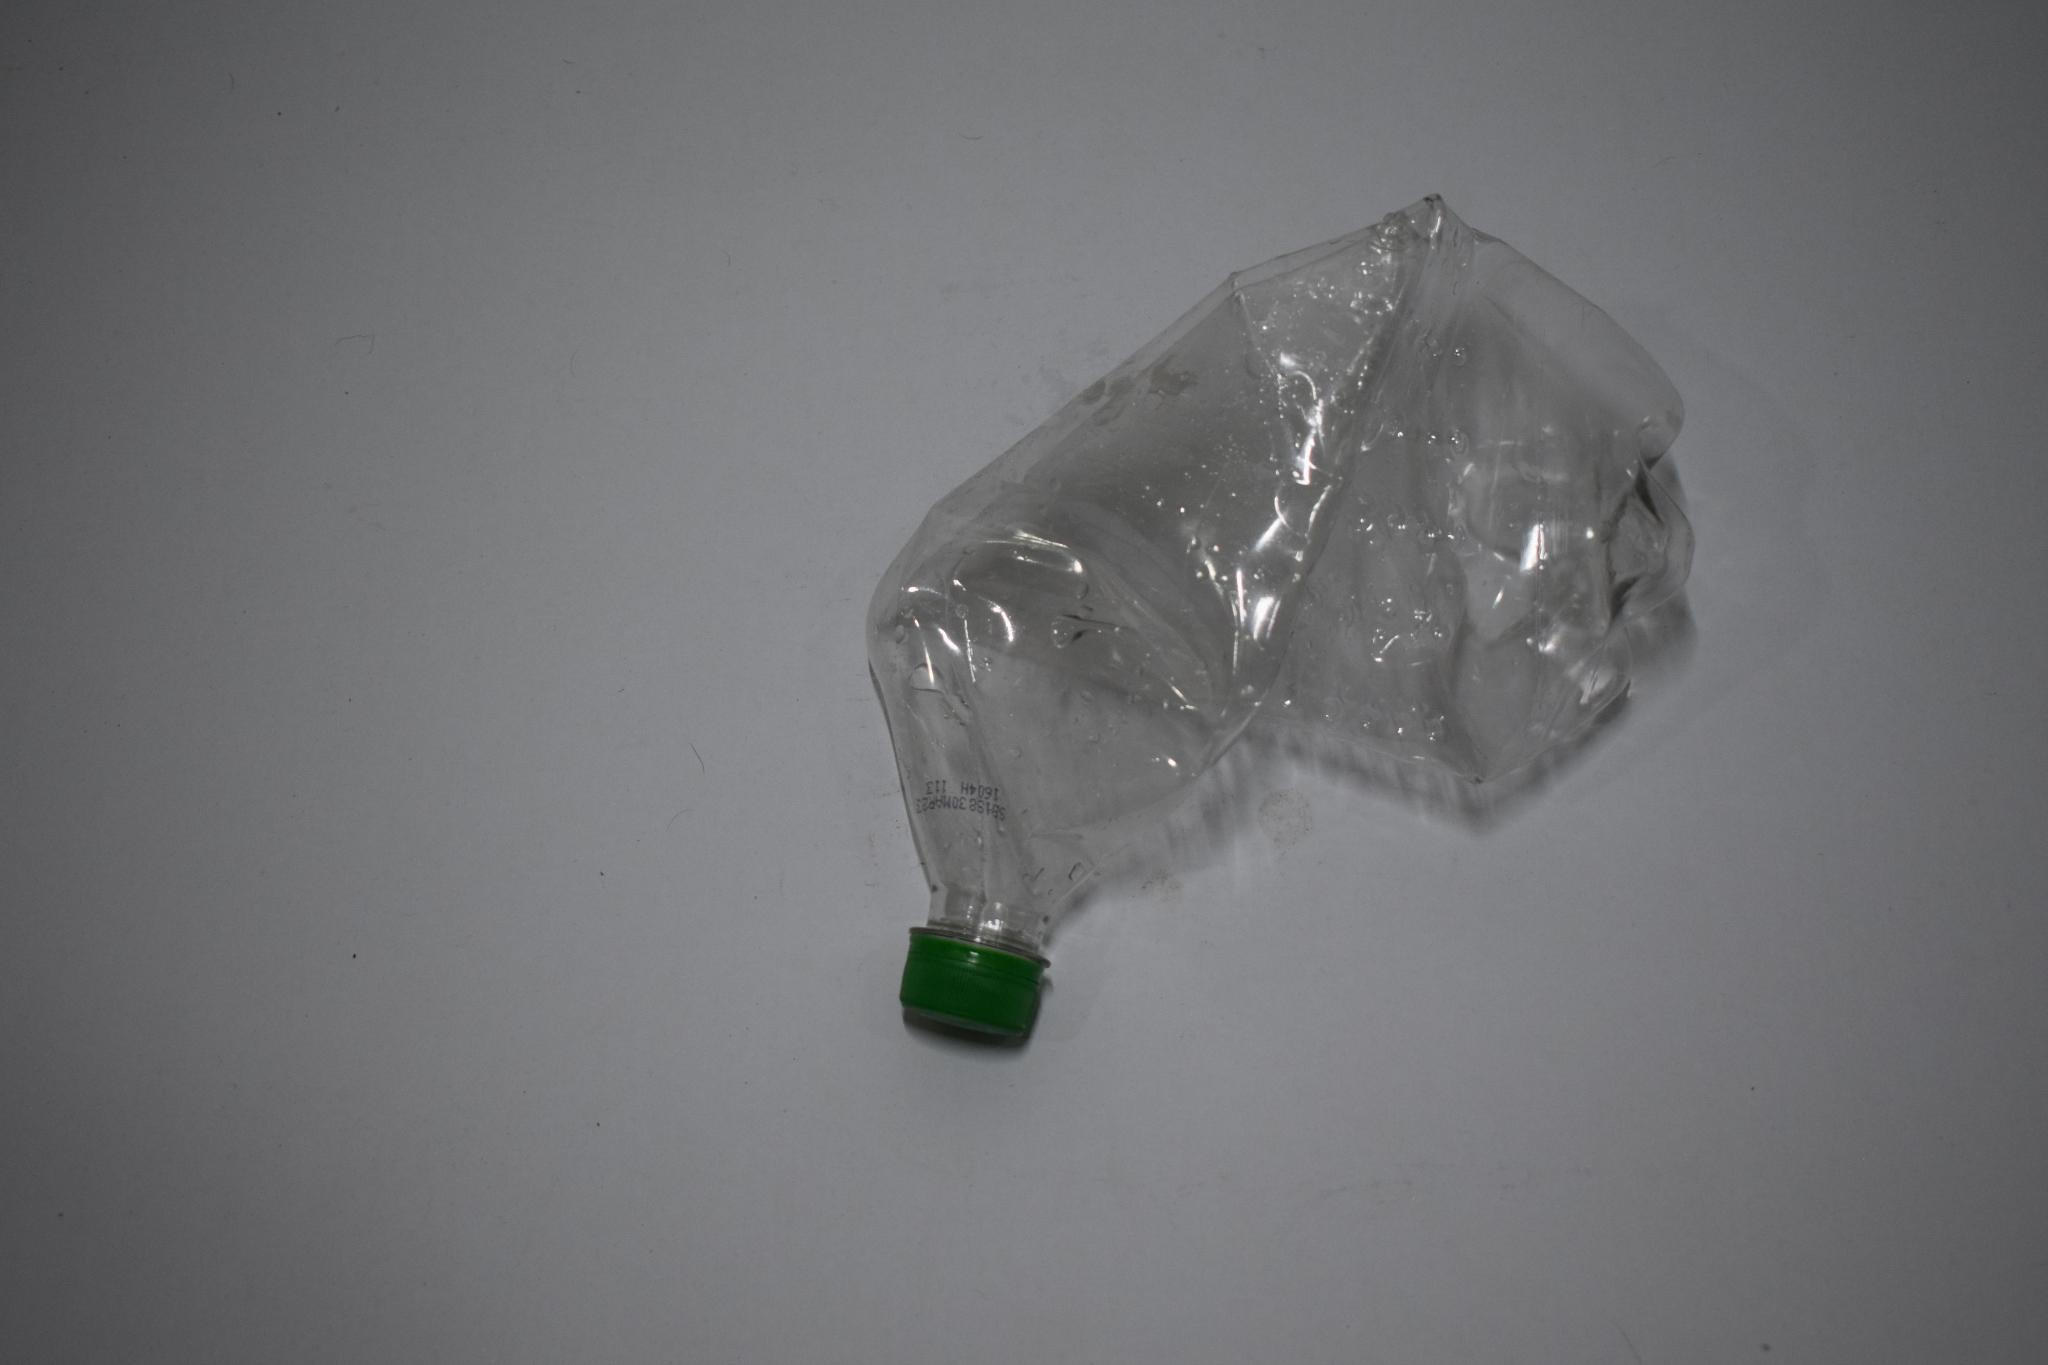bottle: (847, 113, 1693, 1079)
